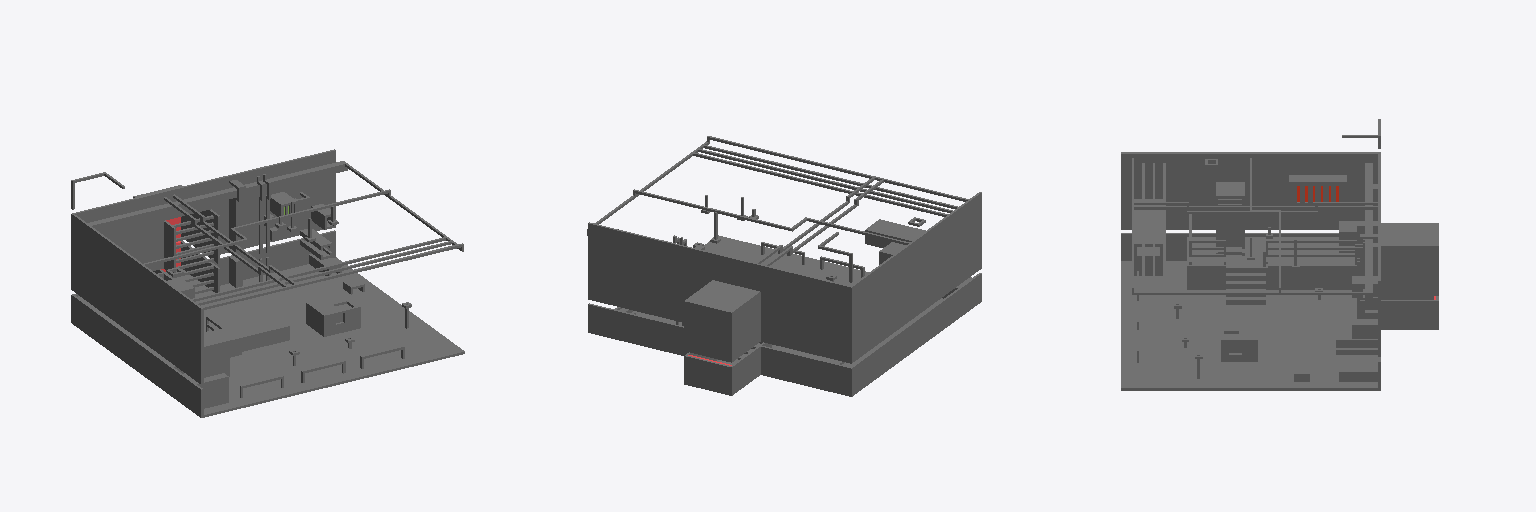
The picture shows the model from 3 angles: view 1: azimuth 30°, elevation 25°; view 2: azimuth 150°, elevation 25°; view 3: azimuth 270°, elevation 25°; orthographic projection.
Visible parts, largest first — view 1: object 1; view 2: object 1; view 3: object 1.
Boxes of the visible parts, <box> form: object 1: <box>71,149,464,417</box>; object 1: <box>587,136,981,396</box>; object 1: <box>1121,119,1438,390</box>.
Size of the model in its own units: 11.8 by 6 by 12.1.
Materials: 1 (1 with a texture image).